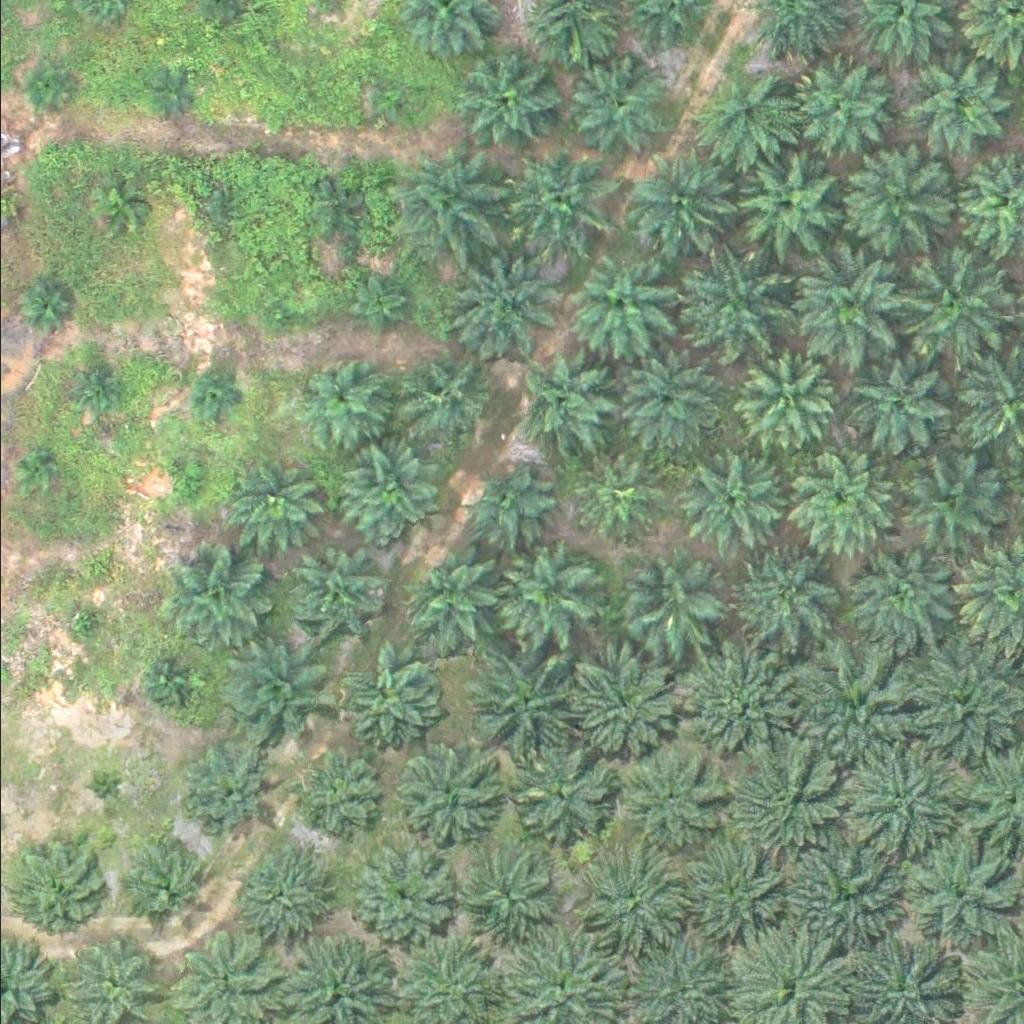Kelapa_Sawit: (780, 245, 906, 370), (839, 530, 965, 655), (787, 647, 913, 772), (678, 644, 804, 769), (713, 735, 839, 860), (836, 742, 961, 867), (562, 639, 687, 764), (838, 146, 951, 259), (442, 248, 555, 361), (672, 246, 785, 359), (905, 839, 1018, 952), (463, 648, 576, 761), (214, 639, 327, 752), (895, 248, 1009, 360), (777, 445, 891, 557), (498, 147, 611, 259), (390, 143, 503, 255), (900, 56, 1001, 156), (402, 546, 503, 646), (333, 441, 434, 541), (609, 352, 710, 452), (515, 352, 616, 452), (396, 345, 497, 445), (569, 253, 670, 353), (733, 157, 834, 257), (636, 150, 737, 250), (453, 51, 554, 151), (565, 58, 666, 158), (700, 67, 801, 167), (788, 54, 889, 154), (335, 647, 436, 747), (387, 744, 488, 844), (508, 742, 609, 842), (620, 747, 721, 847), (578, 855, 679, 955), (349, 848, 450, 948), (224, 844, 325, 944), (115, 833, 216, 933), (9, 835, 110, 935), (161, 546, 262, 646), (853, 359, 953, 459), (899, 449, 999, 549), (727, 546, 827, 646), (619, 554, 719, 654), (493, 542, 593, 642), (677, 453, 777, 553), (732, 350, 832, 450), (686, 836, 786, 936), (222, 449, 322, 549), (799, 846, 899, 945), (461, 461, 549, 549), (569, 454, 657, 542), (291, 548, 379, 636), (457, 851, 545, 939), (293, 359, 382, 446), (182, 748, 271, 835), (290, 747, 378, 834), (351, 275, 414, 337), (94, 179, 145, 229), (14, 276, 65, 326), (143, 654, 194, 704), (148, 72, 199, 122), (365, 75, 415, 125), (306, 186, 356, 236), (70, 360, 120, 410), (193, 373, 243, 423), (170, 463, 208, 501), (19, 454, 57, 492), (63, 606, 101, 644), (82, 768, 120, 806), (31, 69, 68, 107), (203, 192, 241, 229), (258, 297, 296, 334)
